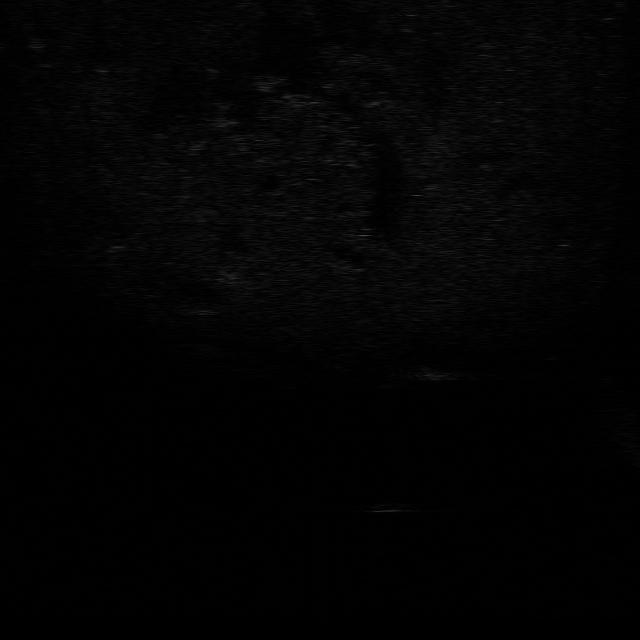cube: (371, 502, 411, 515)
square cage: (408, 361, 462, 384)
